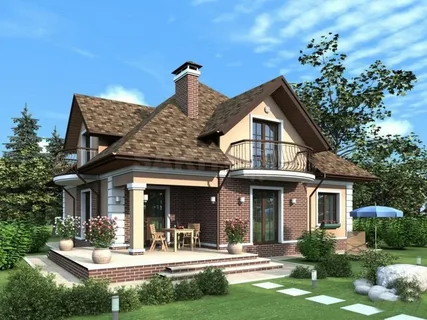private_hause: (64, 92, 358, 249)
